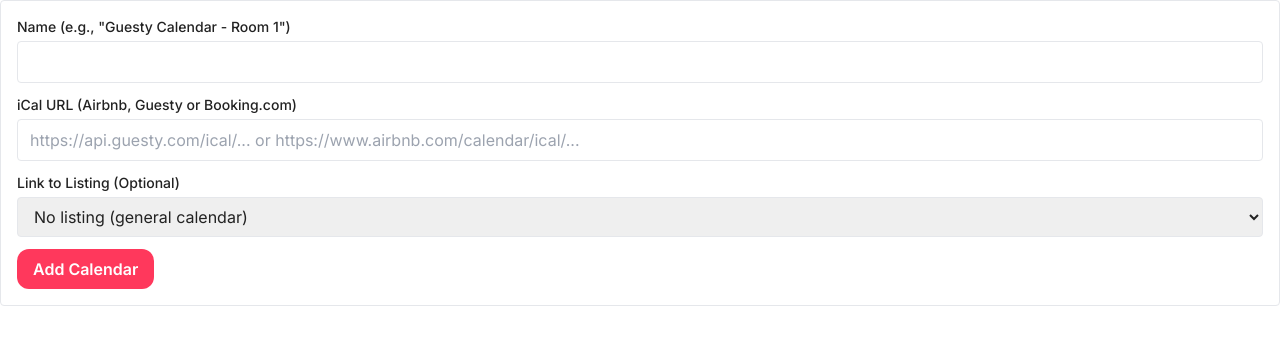
it: CalendarForm › submits an allowlisted calendar and reloads
Type "Guesty Room 1" into the 1st field at x=640, y=62, box 17,41 -> 1263,83
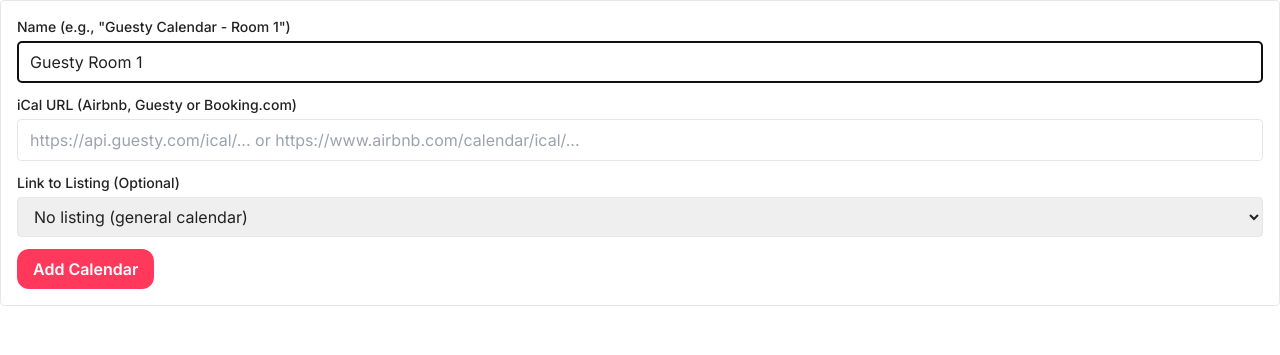
Type "https://api.guesty.com/c.ics" into the 2nd field at x=640, y=140, box 17,119 -> 1263,161
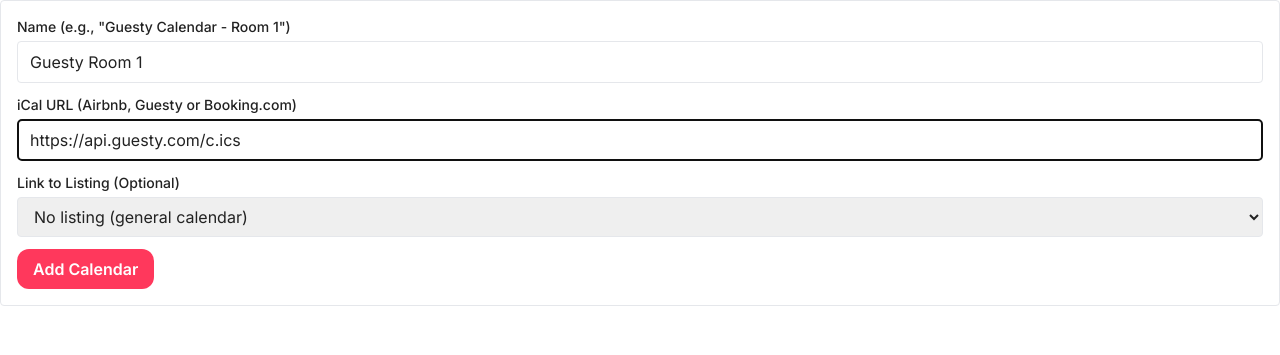
Select "Hotel Uno - Suite Mar" in the dropdown at x=640, y=217, box 17,197 -> 1263,237
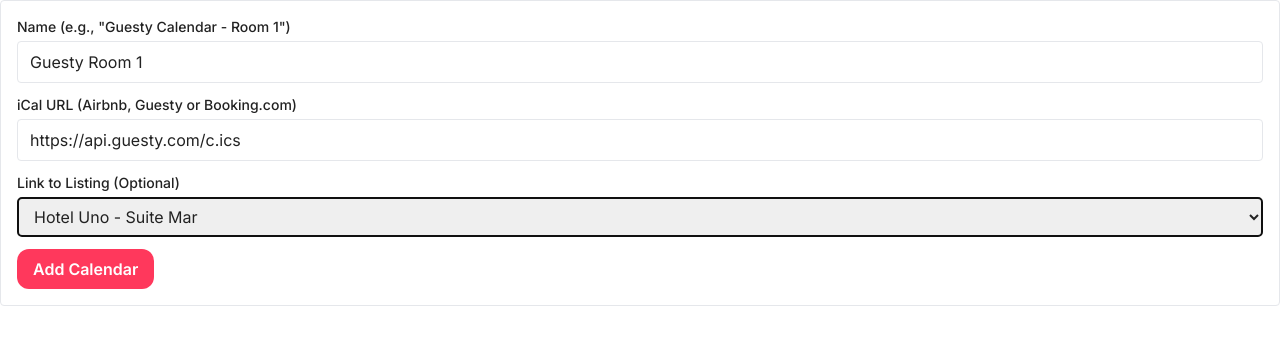
Click the button "Add Calendar" at x=86, y=269, box 17,249 -> 154,289
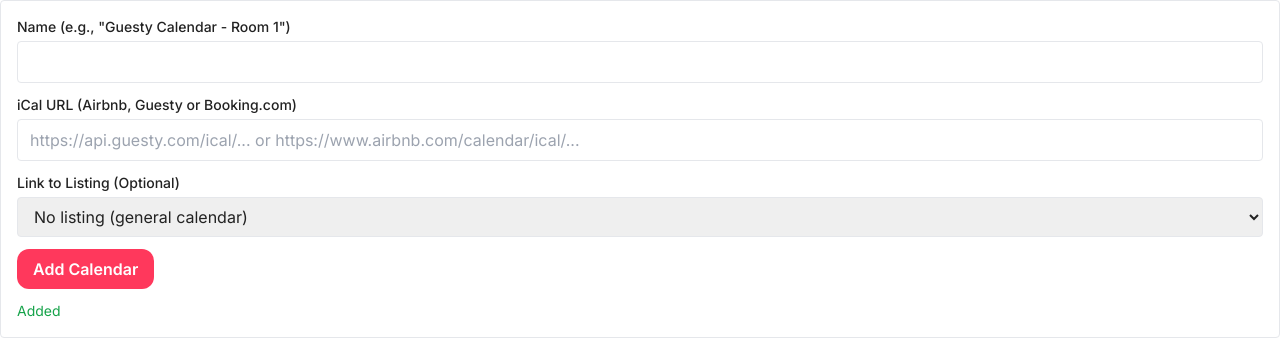
Now the text "Added" is shown, box 17,302 -> 60,319
